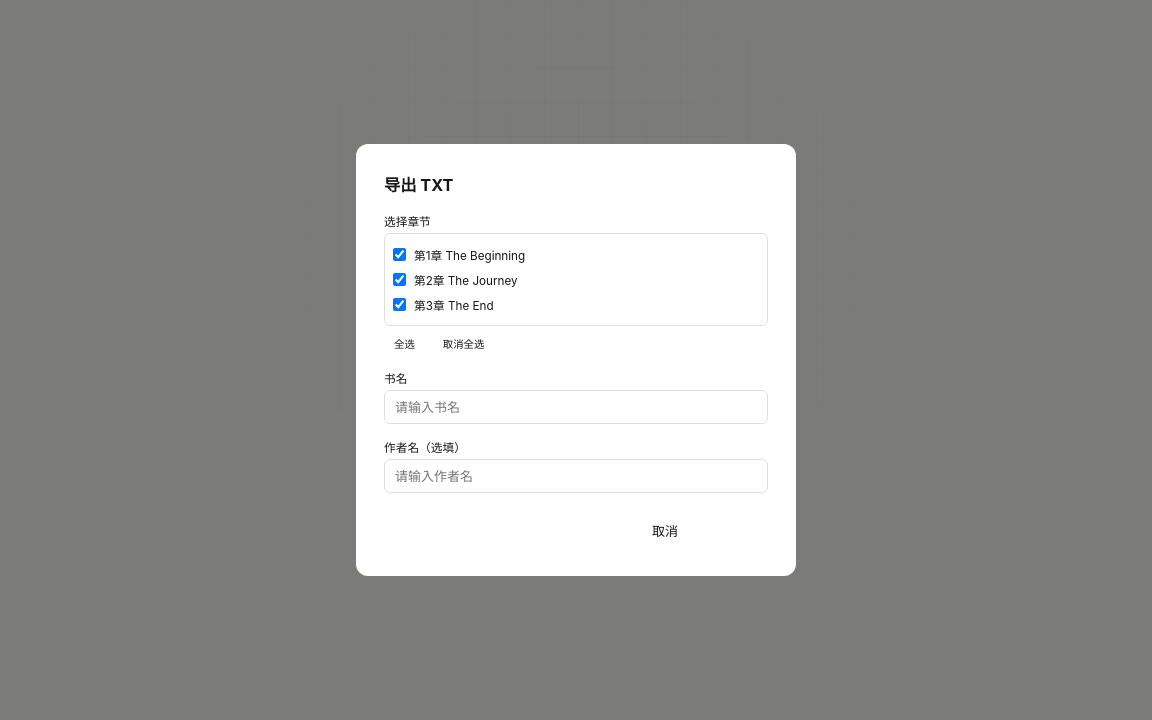
it: ExportDialog › all checking and unchecking of chapters via select-all and deselect-all
Check: the checkbox labelled "第1章 The Beginning" is checked, box [393, 248, 406, 261]
Check: the checkbox labelled "第2章 The Journey" is checked, box [393, 273, 406, 286]
# Deselect all
Click the button "取消全选": (464, 344) [433, 332, 494, 355]
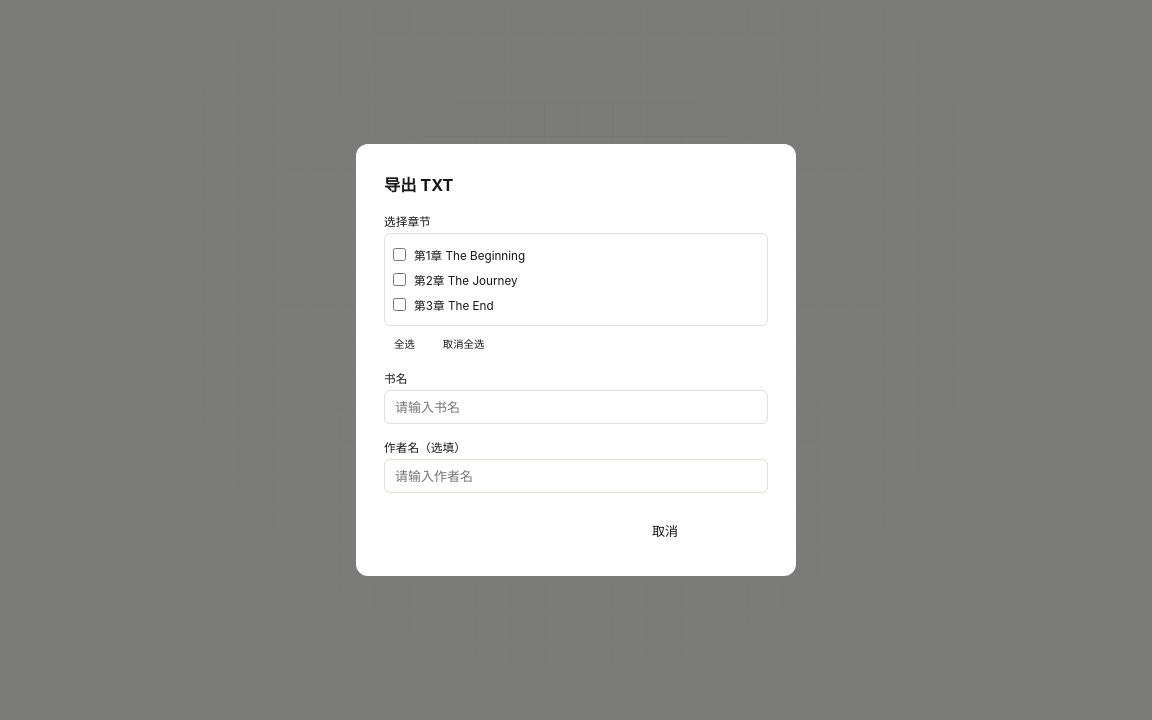
Check: the checkbox labelled "第1章 The Beginning" is not checked, box [393, 248, 406, 261]
Check: the checkbox labelled "第2章 The Journey" is not checked, box [393, 273, 406, 286]
Check: the checkbox labelled "第3章 The End" is not checked, box [393, 298, 406, 311]
# Select all
Click the button "全选": (404, 344) [384, 332, 425, 355]
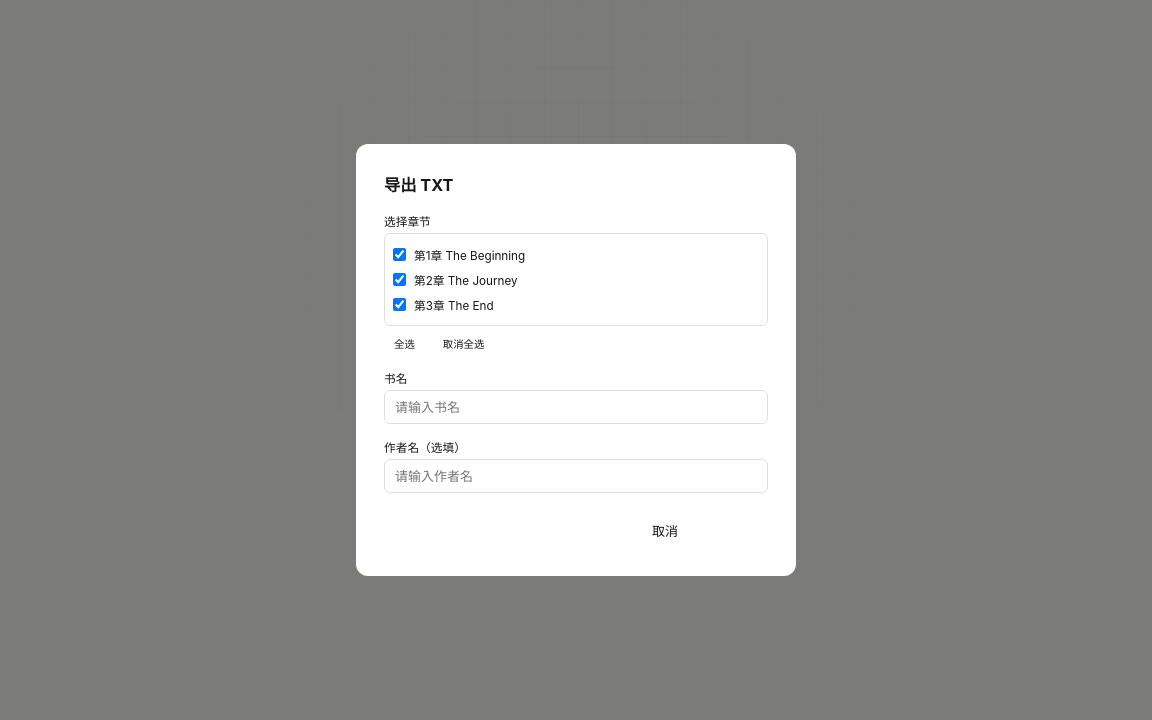
Check: the checkbox labelled "第1章 The Beginning" is checked, box [393, 248, 406, 261]
Check: the checkbox labelled "第2章 The Journey" is checked, box [393, 273, 406, 286]
Check: the checkbox labelled "第3章 The End" is checked, box [393, 298, 406, 311]
